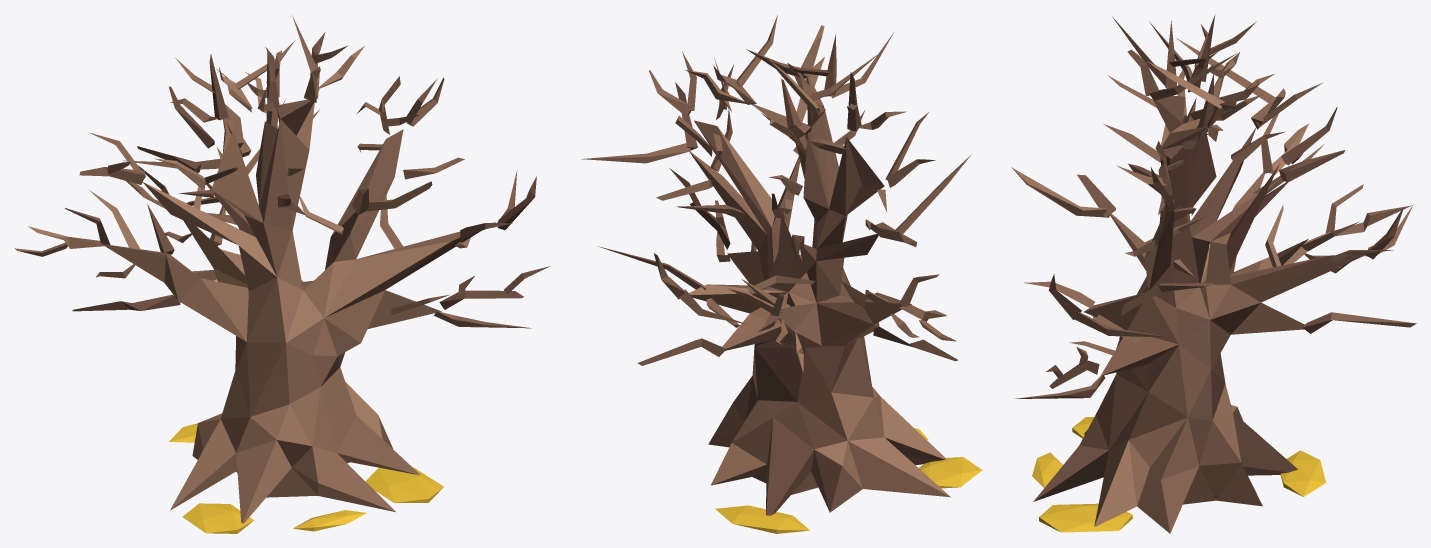
File: giant_cherry_bare_far.glb
3 renders of one model, left to right at view 1: azimuth 30°, elevation 25°; view 2: azimuth 150°, elevation 25°; view 3: azimuth 270°, elevation 25°, orthographic. The views are drawn at different scales.
Visible parts, largest first — view 1: giant_cherry_bare_far; view 2: giant_cherry_bare_far; view 3: giant_cherry_bare_far.
Boxes of the visible parts, x1,y1,x2,y2 form: giant_cherry_bare_far: (15, 15, 550, 533); giant_cherry_bare_far: (581, 15, 982, 533); giant_cherry_bare_far: (1011, 14, 1416, 533).
Size of the model in its own units: 25.66 by 24.48 by 19.84.
